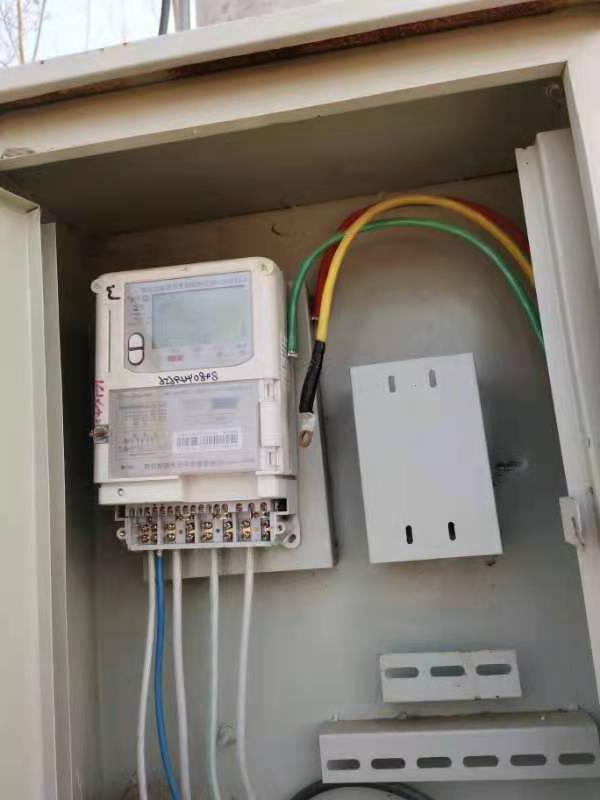digital: (90, 256, 282, 482)
